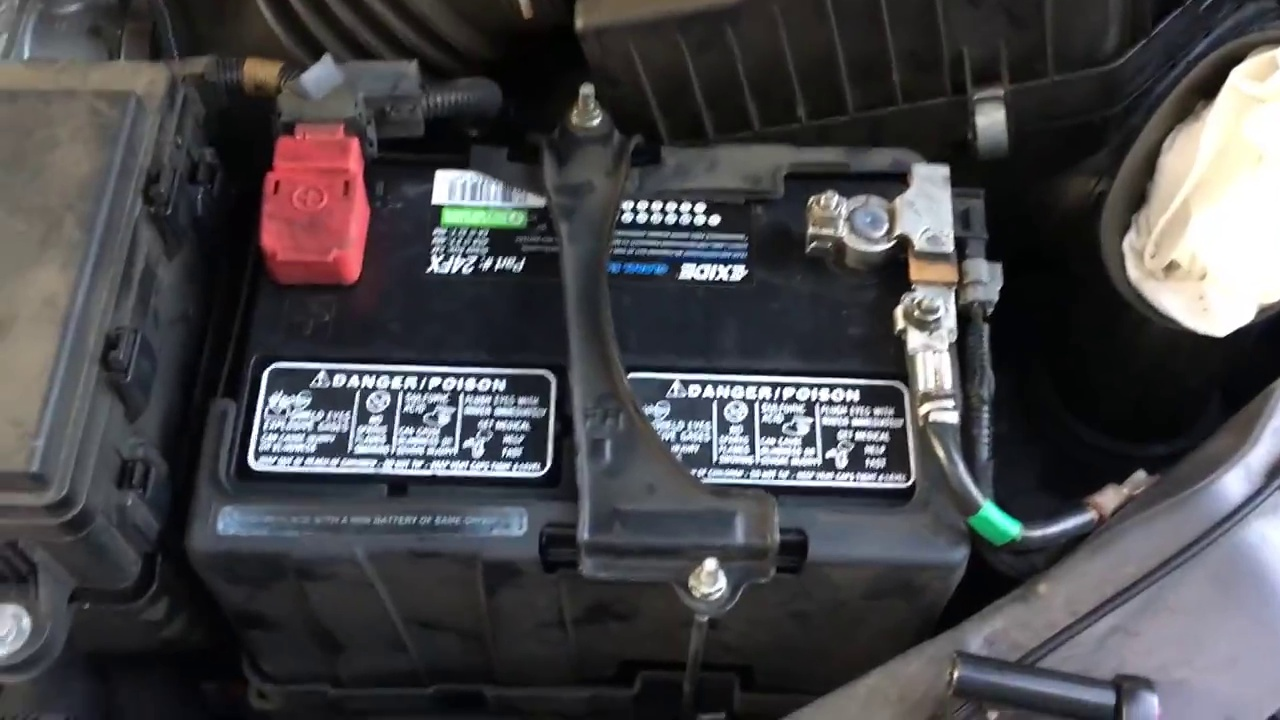battery: (231, 103, 990, 527)
neg_connected: (761, 124, 979, 312)
pos_connected: (234, 73, 407, 296)
